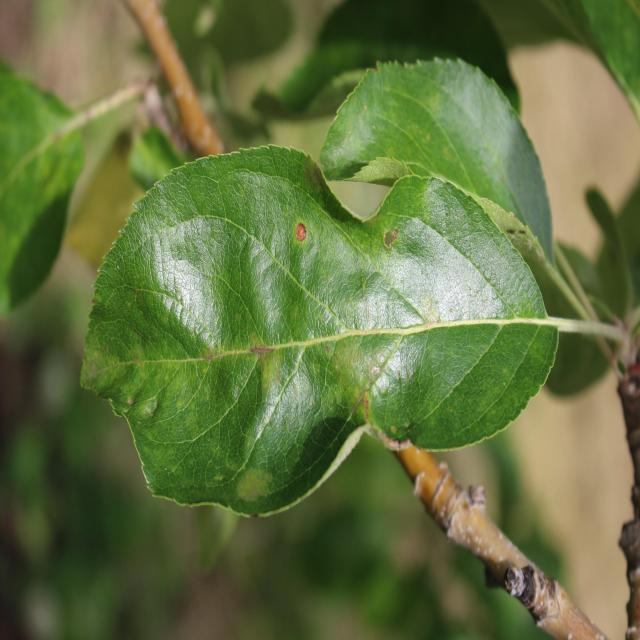rust: (79, 144, 560, 518)
